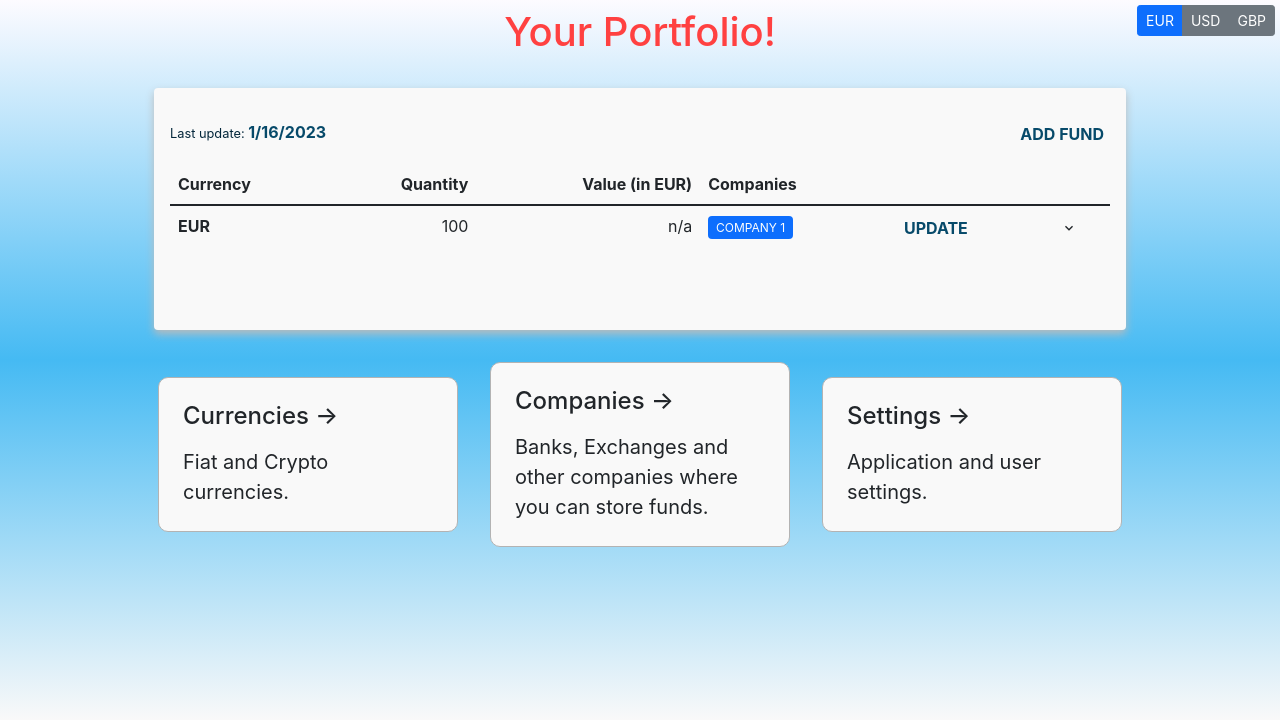
it: BalanceTable › rows have an 'Update' button › that opens a modal
Click the button "Update". click: (936, 228)
box: 898,214 -> 974,242
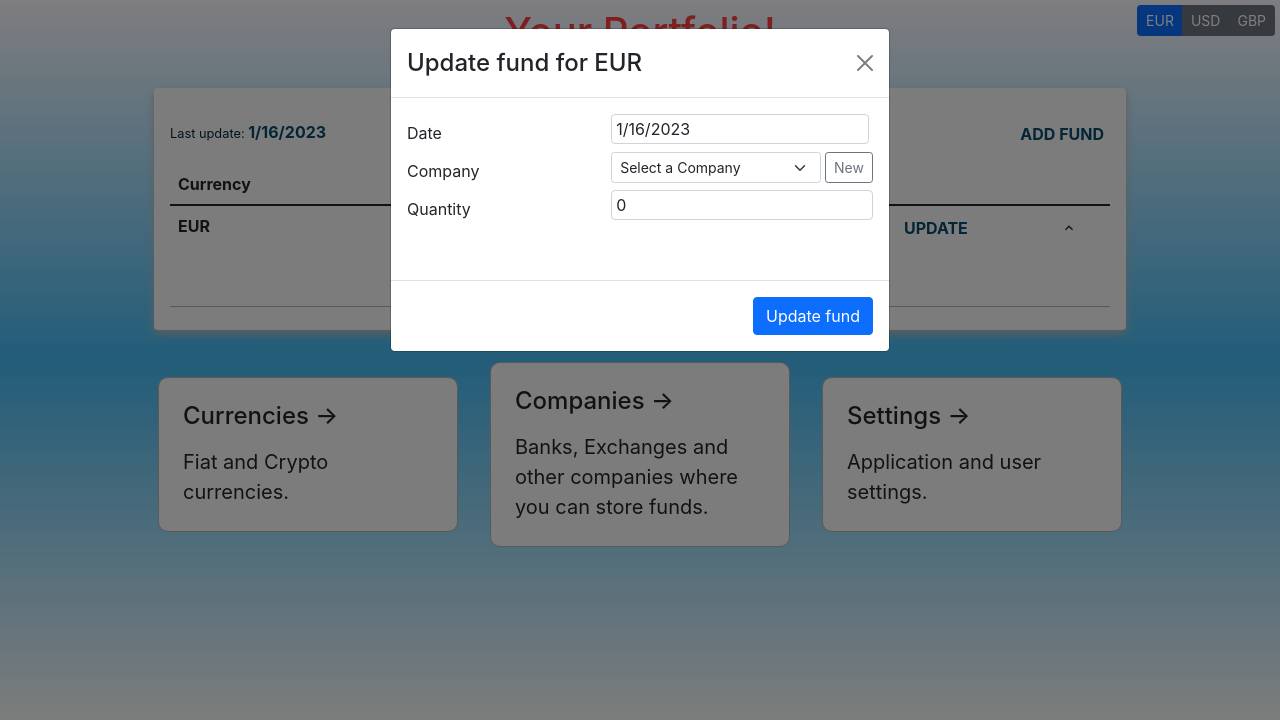
Check: the element showing "Update fund for EUR Date Company New Quantity Update fund" is shown, box 390,28 -> 890,352
